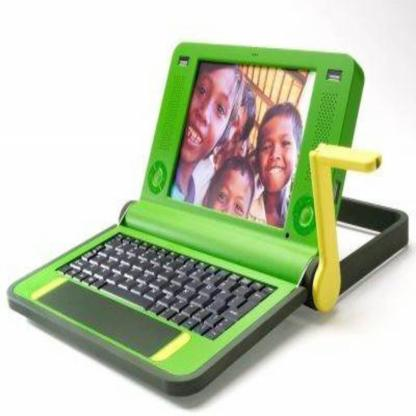board: (8, 38, 366, 394)
